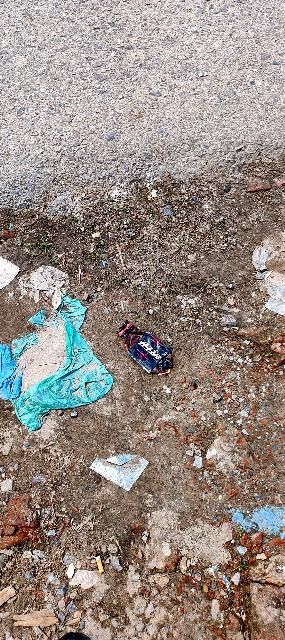bottle: (117, 315, 182, 387)
